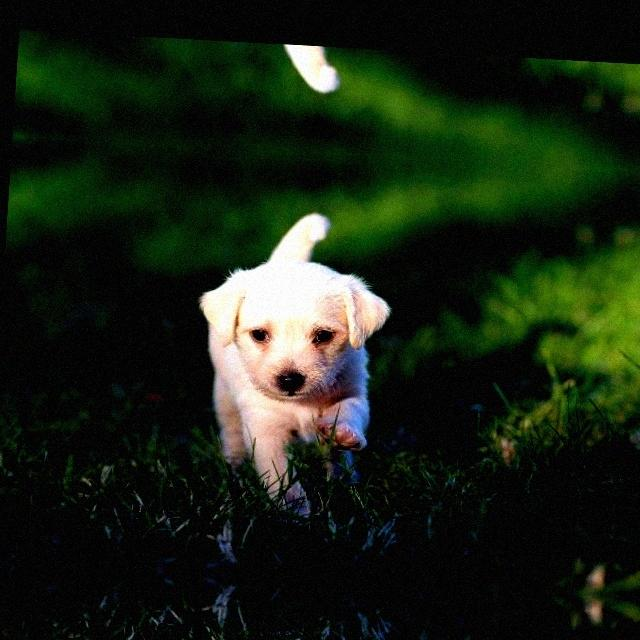dog: (184, 191, 390, 514), (211, 40, 399, 111)
